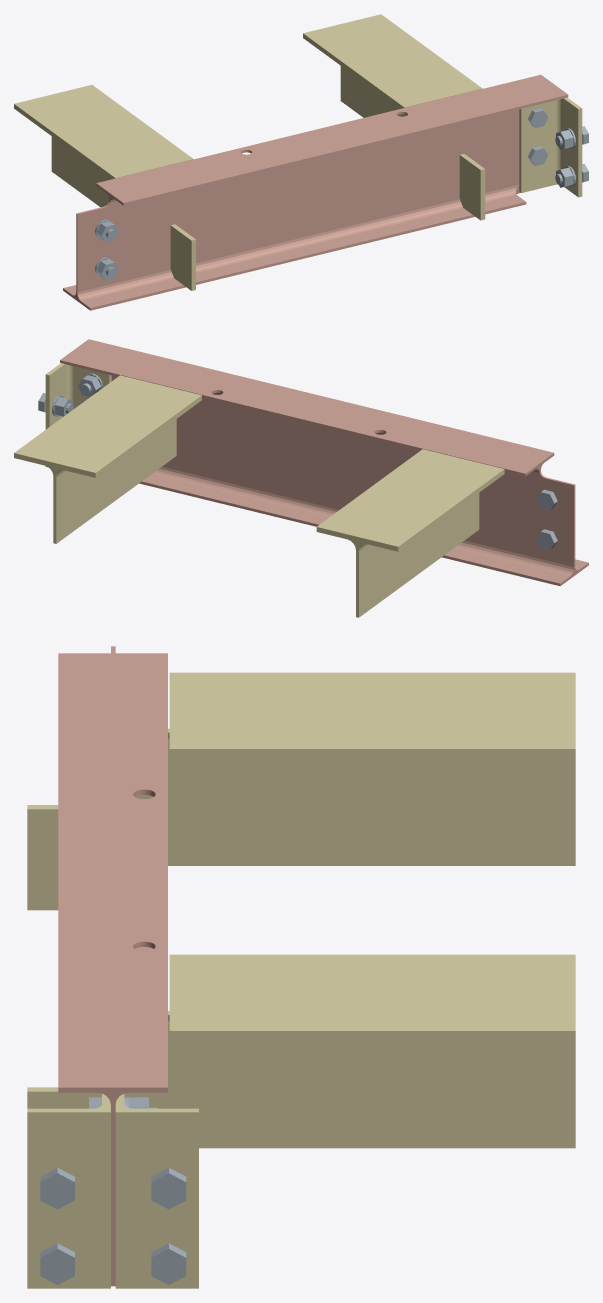
3 renders of one model, top to bottom at view 1: azimuth 30°, elevation 25°; view 2: azimuth 150°, elevation 25°; view 3: azimuth 270°, elevation 25°, orthographic. The views are drawn at different scales.
Parts seen in each view (by area): view 1: product-b2cee8b8-fbfb-429b-ad5e-0fec76ebb72e-body, product-39b8c981-2cfb-4ff4-bb13-20c4f5cf092a-body, product-e724f335-1e11-40b8-9cbf-d66d3f006677-body, product-12229f48-b0ef-4ea3-9829-642fc862329f-body, product-298d2b06-2892-48ca-af0f-242f1bc2797a-body, product-1fbf6512-3e85-4b4a-99d9-43341e212e3f-body, product-f21653ff-a88e-4b86-800e-8f1aa097dbc0-body, product-8abe939a-3375-46b6-821d-f1049e674bf6-body, product-7fa5cdff-6bb0-4b93-83dd-60c2adcc13d8-body, product-209f1843-7659-4776-907c-3b9080f67e40-body; view 2: product-b2cee8b8-fbfb-429b-ad5e-0fec76ebb72e-body, product-e724f335-1e11-40b8-9cbf-d66d3f006677-body, product-39b8c981-2cfb-4ff4-bb13-20c4f5cf092a-body, product-c0c16910-4bf0-478d-89c5-d9895d468597-body, product-65f8519a-8b48-4266-9938-657762da9150-body, product-7f3b73bb-9e83-4a4b-a535-c712f94b9ef8-body; view 3: product-39b8c981-2cfb-4ff4-bb13-20c4f5cf092a-body, product-e724f335-1e11-40b8-9cbf-d66d3f006677-body, product-b2cee8b8-fbfb-429b-ad5e-0fec76ebb72e-body, product-c0c16910-4bf0-478d-89c5-d9895d468597-body, product-12229f48-b0ef-4ea3-9829-642fc862329f-body, product-1fbf6512-3e85-4b4a-99d9-43341e212e3f-body, product-298d2b06-2892-48ca-af0f-242f1bc2797a-body, product-1b1a77c5-73b2-4847-9f16-8cd7f40b0b63-body, product-65f8519a-8b48-4266-9938-657762da9150-body, product-8abe939a-3375-46b6-821d-f1049e674bf6-body, product-f21653ff-a88e-4b86-800e-8f1aa097dbc0-body.
Part boxes in pixels (bbox=[...]): product-b2cee8b8-fbfb-429b-ad5e-0fec76ebb72e-body: bbox=[63, 74, 568, 310]; product-39b8c981-2cfb-4ff4-bb13-20c4f5cf092a-body: bbox=[14, 85, 193, 207]; product-e724f335-1e11-40b8-9cbf-d66d3f006677-body: bbox=[303, 14, 482, 117]; product-12229f48-b0ef-4ea3-9829-642fc862329f-body: bbox=[519, 97, 582, 197]; product-298d2b06-2892-48ca-af0f-242f1bc2797a-body: bbox=[459, 154, 485, 220]; product-1fbf6512-3e85-4b4a-99d9-43341e212e3f-body: bbox=[170, 224, 195, 290]; product-f21653ff-a88e-4b86-800e-8f1aa097dbc0-body: bbox=[555, 164, 588, 187]; product-8abe939a-3375-46b6-821d-f1049e674bf6-body: bbox=[555, 126, 588, 149]; product-7fa5cdff-6bb0-4b93-83dd-60c2adcc13d8-body: bbox=[95, 219, 118, 242]; product-209f1843-7659-4776-907c-3b9080f67e40-body: bbox=[95, 257, 118, 280]; product-b2cee8b8-fbfb-429b-ad5e-0fec76ebb72e-body: bbox=[60, 339, 588, 586]; product-e724f335-1e11-40b8-9cbf-d66d3f006677-body: bbox=[14, 375, 201, 543]; product-39b8c981-2cfb-4ff4-bb13-20c4f5cf092a-body: bbox=[316, 449, 504, 617]; product-c0c16910-4bf0-478d-89c5-d9895d468597-body: bbox=[45, 363, 111, 467]; product-65f8519a-8b48-4266-9938-657762da9150-body: bbox=[38, 393, 73, 416]; product-7f3b73bb-9e83-4a4b-a535-c712f94b9ef8-body: bbox=[78, 373, 102, 397]; product-39b8c981-2cfb-4ff4-bb13-20c4f5cf092a-body: bbox=[135, 672, 575, 865]; product-e724f335-1e11-40b8-9cbf-d66d3f006677-body: bbox=[124, 954, 575, 1148]; product-b2cee8b8-fbfb-429b-ad5e-0fec76ebb72e-body: bbox=[58, 646, 167, 1286]; product-c0c16910-4bf0-478d-89c5-d9895d468597-body: bbox=[115, 1094, 198, 1288]; product-12229f48-b0ef-4ea3-9829-642fc862329f-body: bbox=[27, 1093, 110, 1288]; product-1fbf6512-3e85-4b4a-99d9-43341e212e3f-body: bbox=[27, 805, 58, 910]; product-298d2b06-2892-48ca-af0f-242f1bc2797a-body: bbox=[27, 1087, 101, 1108]; product-1b1a77c5-73b2-4847-9f16-8cd7f40b0b63-body: bbox=[151, 1243, 186, 1284]; product-65f8519a-8b48-4266-9938-657762da9150-body: bbox=[151, 1168, 186, 1209]; product-8abe939a-3375-46b6-821d-f1049e674bf6-body: bbox=[40, 1167, 74, 1209]; product-f21653ff-a88e-4b86-800e-8f1aa097dbc0-body: bbox=[40, 1243, 74, 1284].
Bounding box in the file's own units: 1.04 × 0.2004 × 0.5006.
